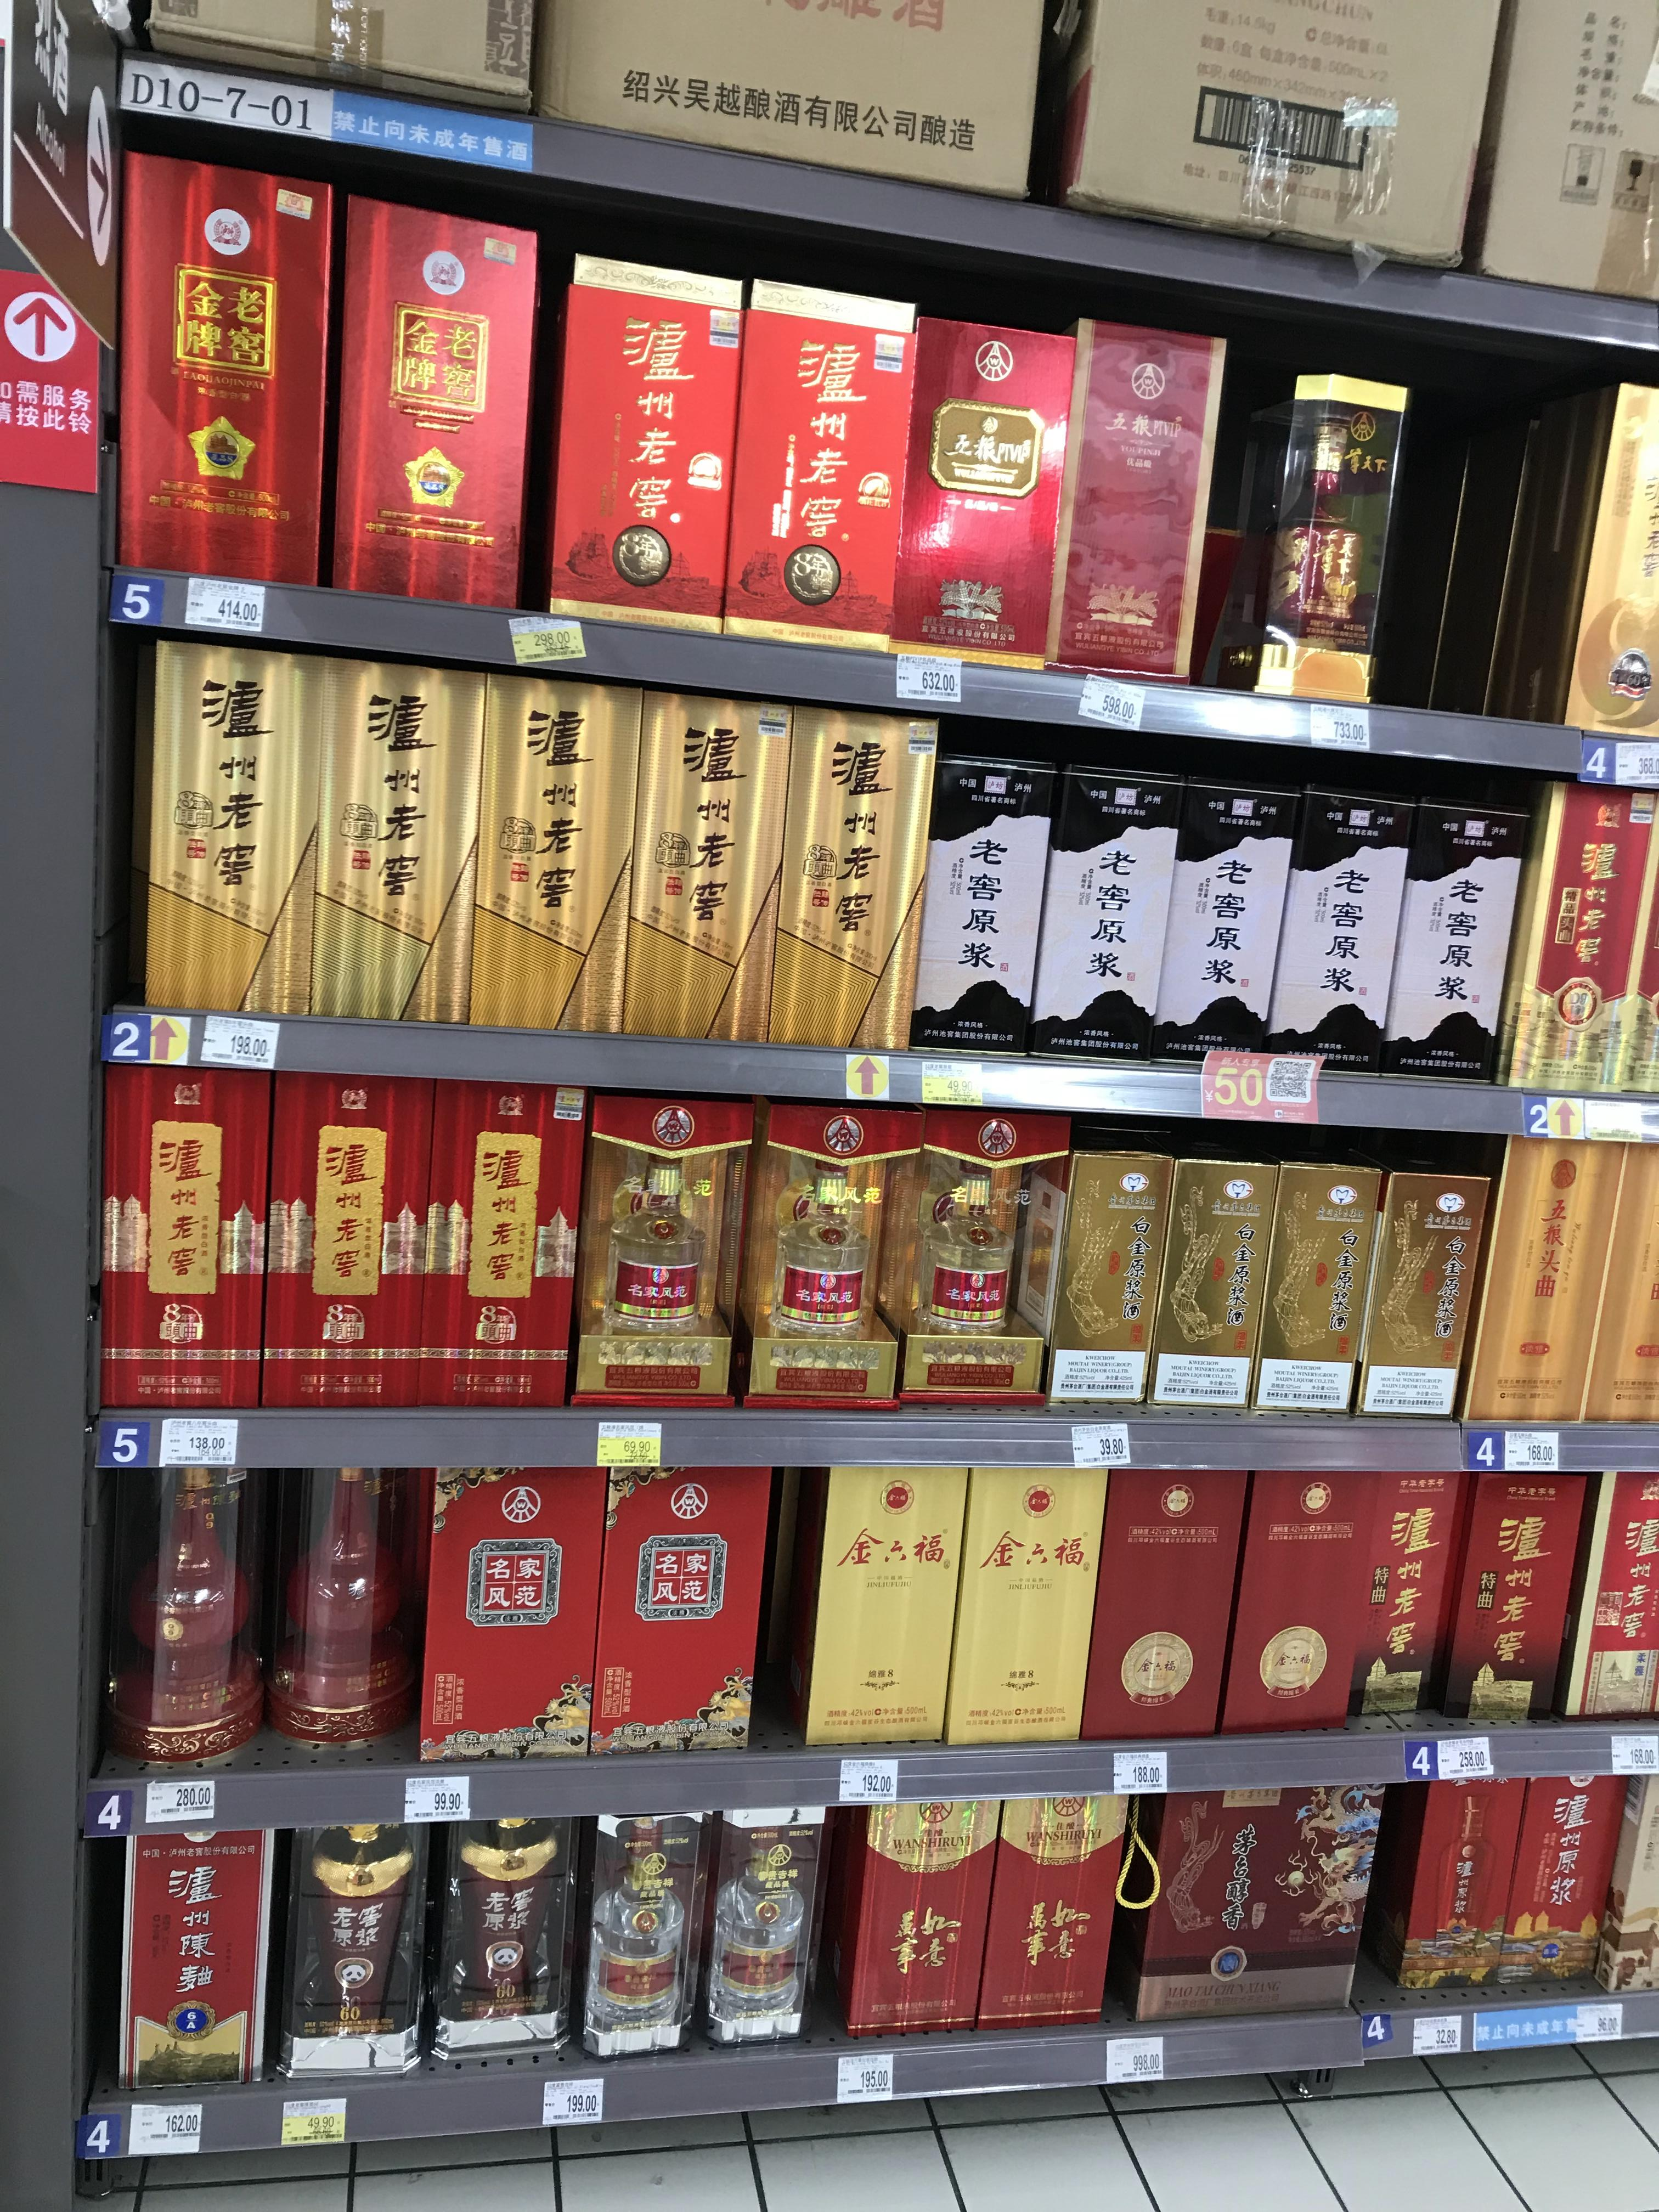bottle: (1218, 376, 1408, 702), (896, 1101, 1051, 1411), (579, 1106, 735, 1407), (742, 1104, 894, 1409), (268, 1454, 416, 1754), (115, 1451, 253, 1768), (272, 1804, 422, 2083), (432, 1817, 572, 2064), (582, 1803, 711, 2057), (708, 1808, 824, 2047)
box: (120, 152, 342, 583), (322, 195, 535, 615), (85, 1021, 289, 1413), (535, 251, 737, 643), (608, 678, 809, 1045), (714, 280, 911, 653), (746, 702, 934, 1052), (889, 310, 1068, 665), (1126, 1770, 1385, 2006), (1056, 319, 1229, 674), (413, 1435, 603, 1754), (580, 1449, 772, 1756), (1230, 1432, 1422, 1737), (793, 1444, 983, 1750), (422, 1087, 594, 1411), (1375, 772, 1549, 1090), (941, 1442, 1115, 1747), (1445, 1141, 1622, 1439), (1075, 1435, 1244, 1743), (899, 735, 1054, 1059), (1256, 772, 1413, 1075), (1152, 752, 1298, 1069), (1030, 747, 1169, 1066), (122, 1799, 272, 2092), (1495, 772, 1631, 1092), (1446, 1460, 1600, 1733), (1476, 1768, 1638, 2015), (978, 1773, 1127, 2033), (835, 1789, 985, 2034), (1358, 1163, 1490, 1421), (1145, 1151, 1272, 1409), (1049, 1141, 1173, 1406), (1375, 1754, 1511, 1987), (1246, 1162, 1377, 1402), (1556, 1460, 1656, 1730), (1577, 1139, 1659, 1421)
